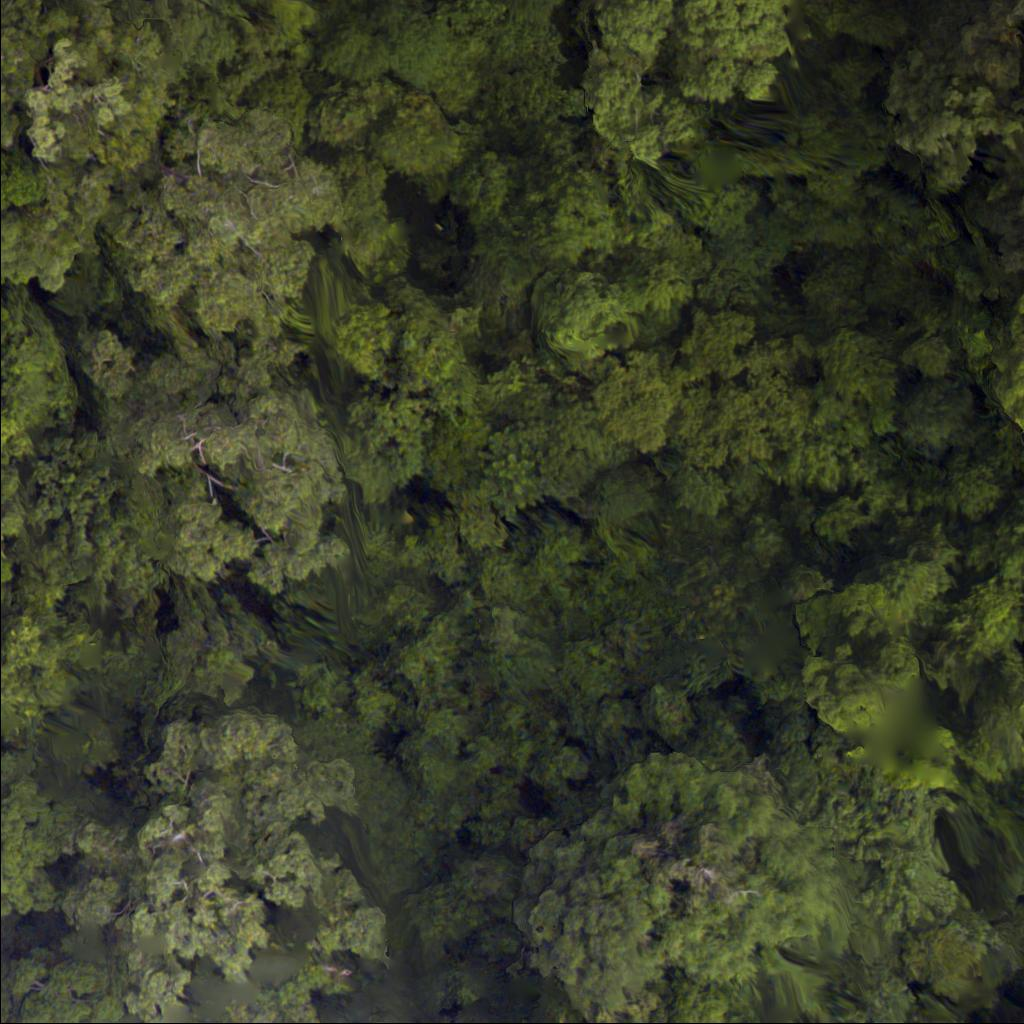crown: (513, 749, 874, 1023), (111, 710, 389, 1023), (98, 326, 369, 597), (114, 108, 366, 360), (585, 0, 795, 156), (0, 967, 131, 1023), (1012, 318, 1023, 365), (1016, 384, 1023, 437), (465, 1019, 522, 1023)
